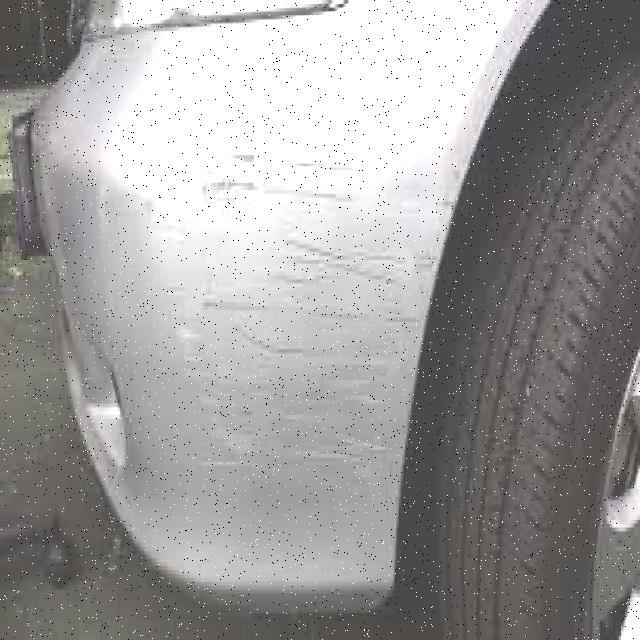car damage: (147, 140, 455, 485)
